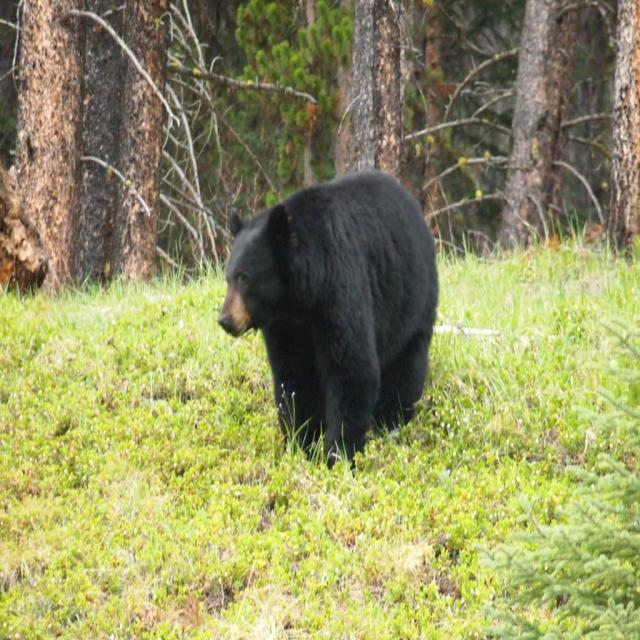Buffalo: (218, 166, 437, 478)
